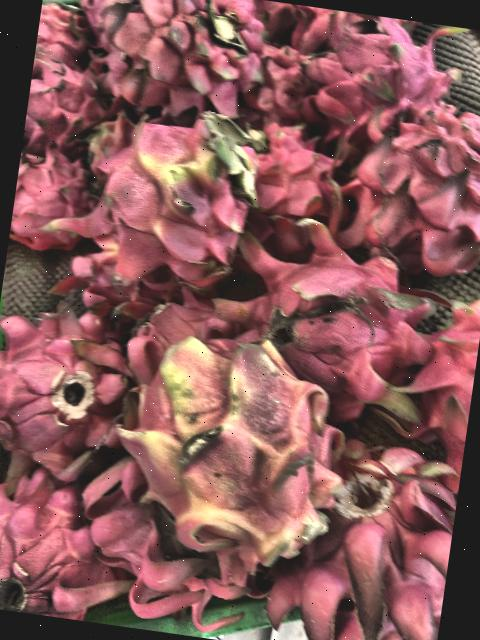buah-naga-belum-matang: (109, 319, 359, 576), (76, 107, 268, 300)
buah-naga-matang: (219, 225, 436, 420), (278, 426, 464, 640), (62, 459, 259, 633), (336, 80, 480, 284), (0, 294, 132, 480), (0, 465, 141, 626), (92, 0, 265, 125), (275, 11, 435, 130), (242, 124, 348, 257), (406, 283, 480, 465), (12, 146, 94, 246), (22, 64, 100, 154), (34, 2, 96, 68)
